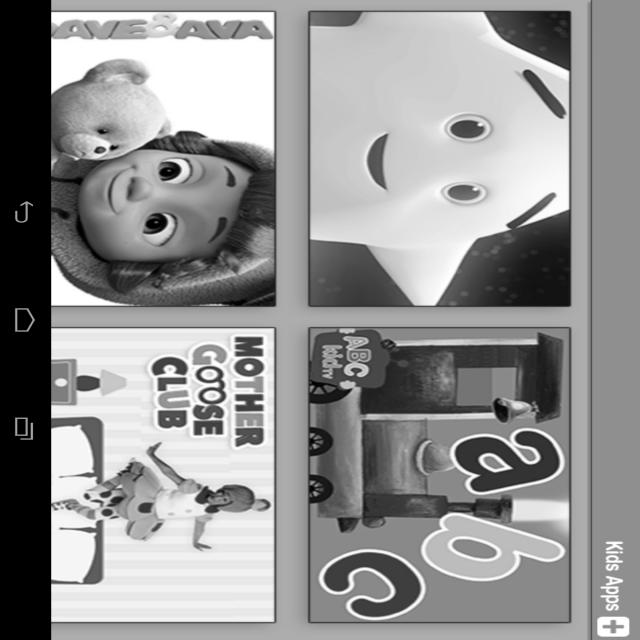ImageView: (303, 318, 574, 630), (299, 10, 580, 308), (51, 326, 278, 626), (49, 10, 274, 312)
TextView: (592, 533, 631, 618)
